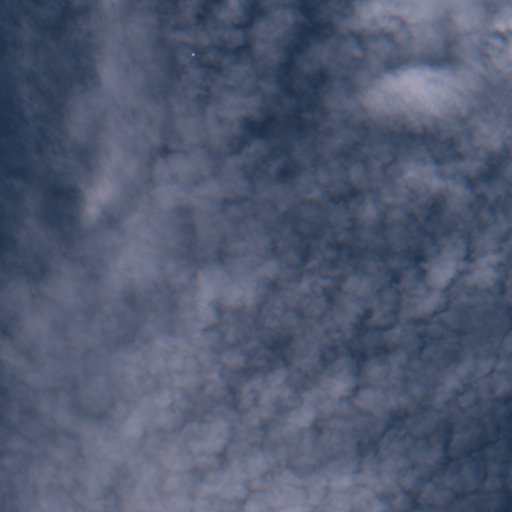Iceberg: (192, 53, 194, 55)
